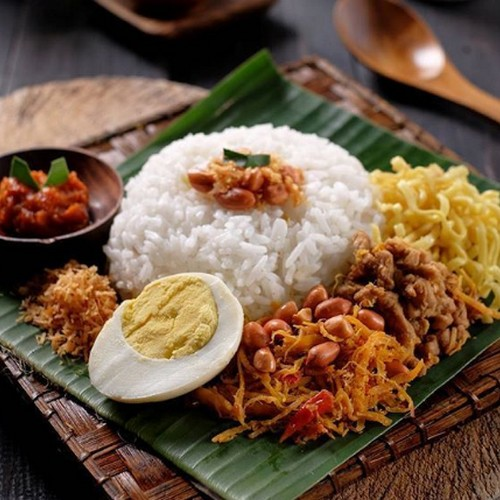nasi jinggo: (66, 118, 474, 439)
